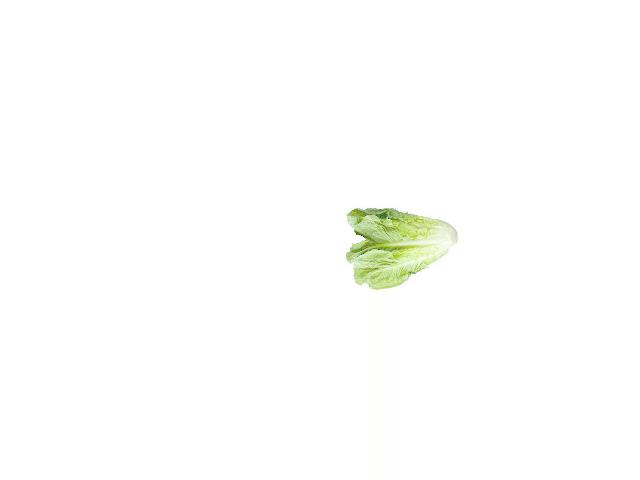lettuce: (346, 205, 460, 288)
